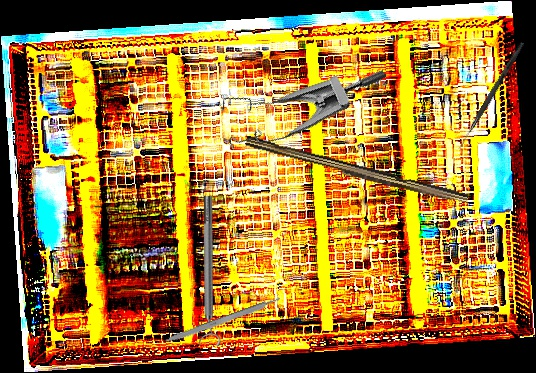Fixation Ring: (197, 196, 221, 346)
Hook Surgical: (457, 40, 525, 152)
Scalpel Handle: (243, 135, 470, 208), (163, 296, 282, 346)
Speculum: (204, 11, 389, 179)
